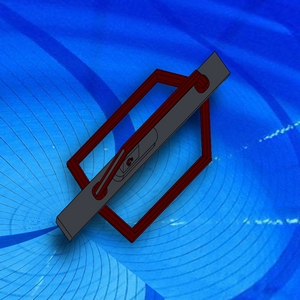submarine: (50, 48, 242, 250)
